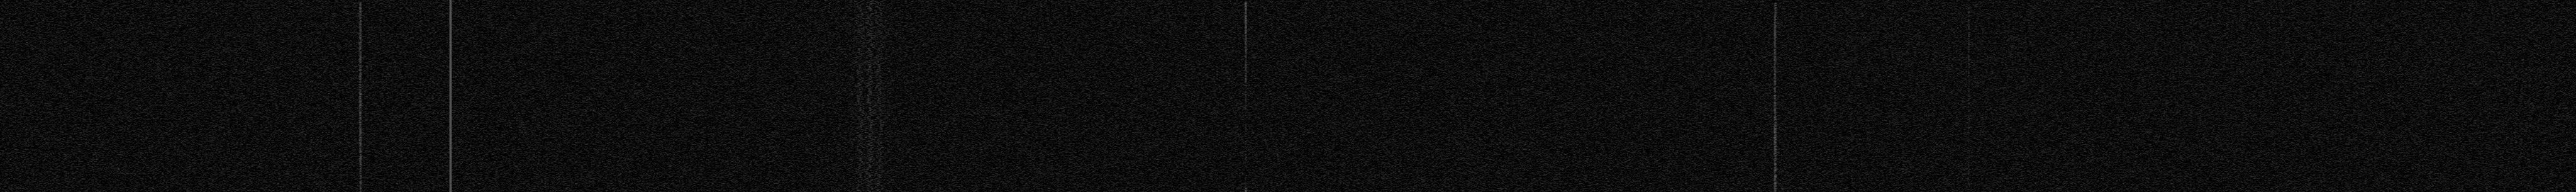wv_am: (448, 0, 452, 192)
wv_lsb: (358, 2, 361, 192), (1966, 2, 1970, 39), (1966, 48, 1970, 82), (1966, 161, 1970, 192), (1966, 82, 1970, 105), (1966, 146, 1970, 161), (1966, 131, 1970, 144), (1966, 113, 1970, 125), (1966, 105, 1970, 113), (1966, 39, 1970, 46), (1966, 125, 1970, 130)
wv_usb: (1773, 2, 1778, 192), (1244, 0, 1249, 121), (1244, 131, 1249, 192), (5, 30, 8, 33), (5, 26, 8, 30), (1245, 121, 1247, 126), (1245, 126, 1247, 130), (5, 34, 8, 36)
wv_wbfm: (844, 43, 894, 80), (844, 107, 889, 138), (848, 164, 889, 192), (846, 18, 892, 43), (851, 130, 889, 154), (846, 95, 884, 120), (854, 0, 884, 18), (854, 80, 884, 95), (846, 3, 864, 18), (874, 121, 894, 130), (846, 138, 858, 146), (874, 154, 884, 162), (864, 154, 874, 162), (854, 154, 864, 162), (844, 97, 853, 105), (884, 87, 892, 95), (844, 87, 853, 95), (885, 139, 894, 146), (885, 80, 894, 87), (846, 80, 854, 87), (885, 30, 894, 36), (885, 5, 894, 11), (884, 133, 894, 138), (885, 164, 892, 171), (846, 164, 853, 171), (876, 103, 889, 107), (885, 97, 892, 103), (885, 182, 894, 187), (885, 158, 894, 162), (846, 158, 854, 162), (885, 115, 894, 120), (885, 13, 894, 18), (884, 179, 895, 182), (885, 149, 892, 154), (846, 149, 853, 154), (844, 39, 853, 43), (887, 174, 892, 179), (887, 107, 892, 112), (885, 154, 892, 158), (846, 154, 853, 158), (846, 0, 853, 3), (844, 181, 853, 182), (846, 172, 854, 174), (885, 105, 894, 107), (844, 20, 853, 21), (887, 28, 894, 30), (885, 2, 892, 3), (885, 190, 890, 192), (846, 190, 851, 192), (889, 25, 894, 26), (884, 11, 889, 13)
